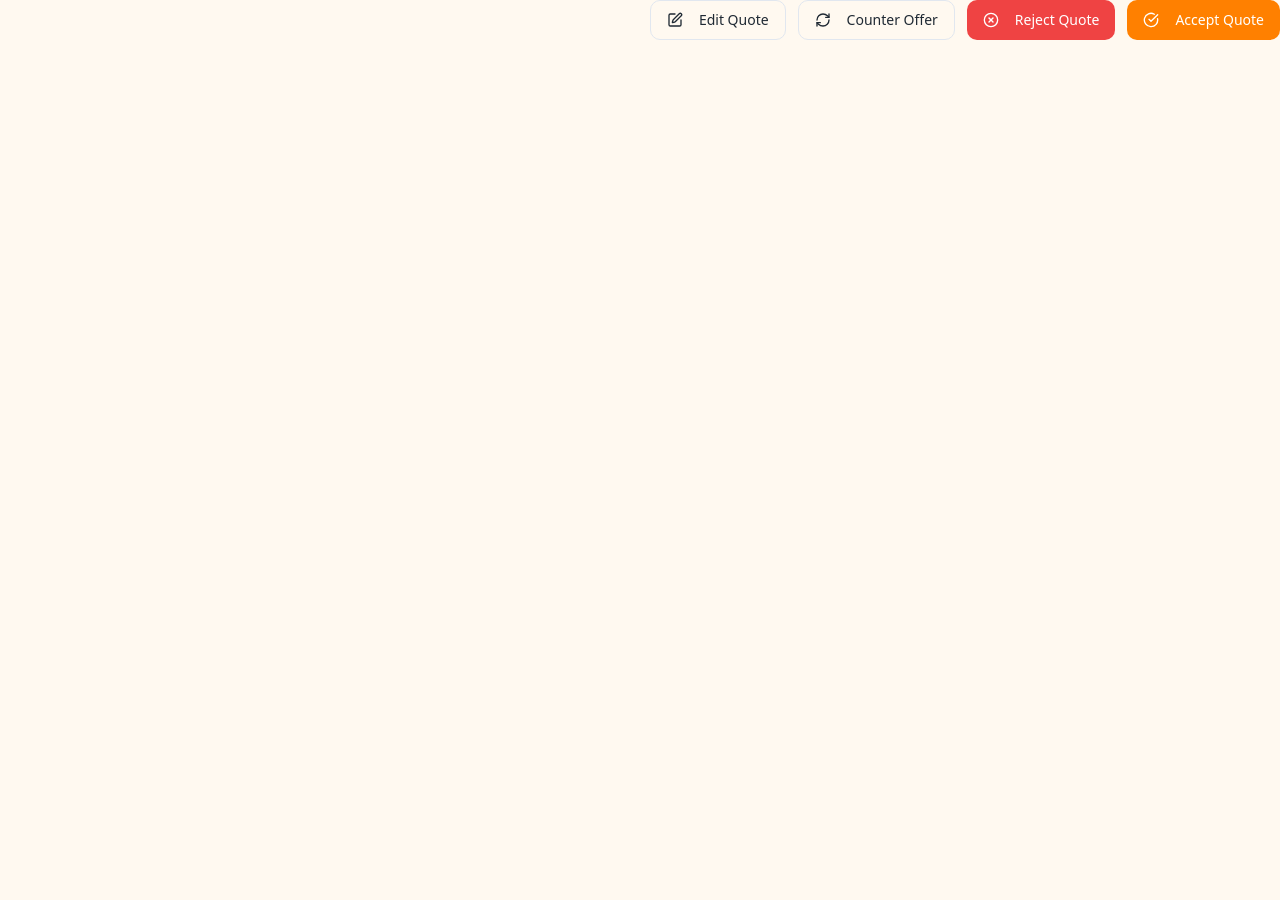
it: QuoteActions › Reject Quote Flow › should show character count for rejection reason
Click the button "Reject Quote" at (1041, 20), box left=967, top=0, right=1115, bottom=40
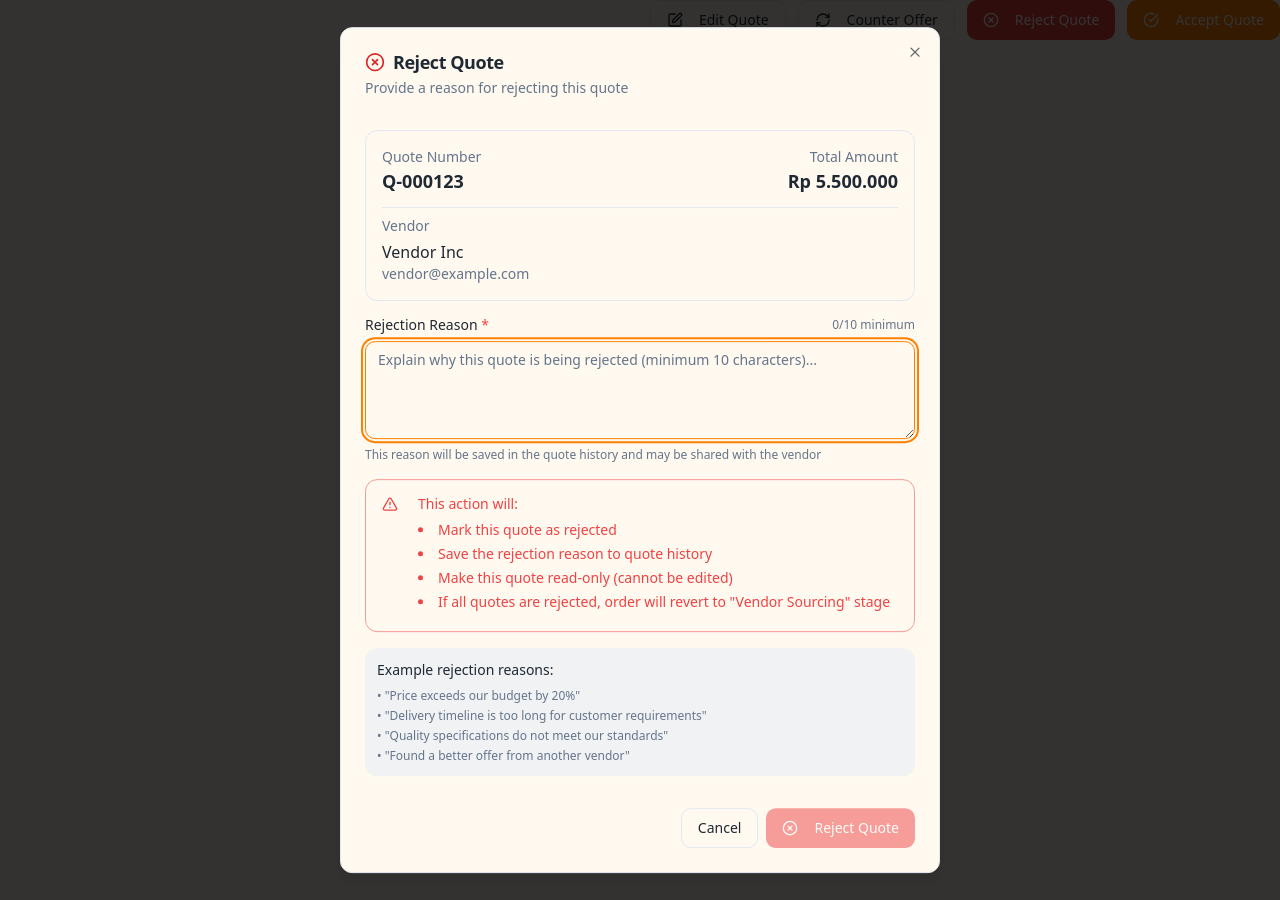
Replace the text in the text box with placeholder "Explain why this quote is being rejected" with "Test reason" at (640, 390), box left=365, top=341, right=915, bottom=439
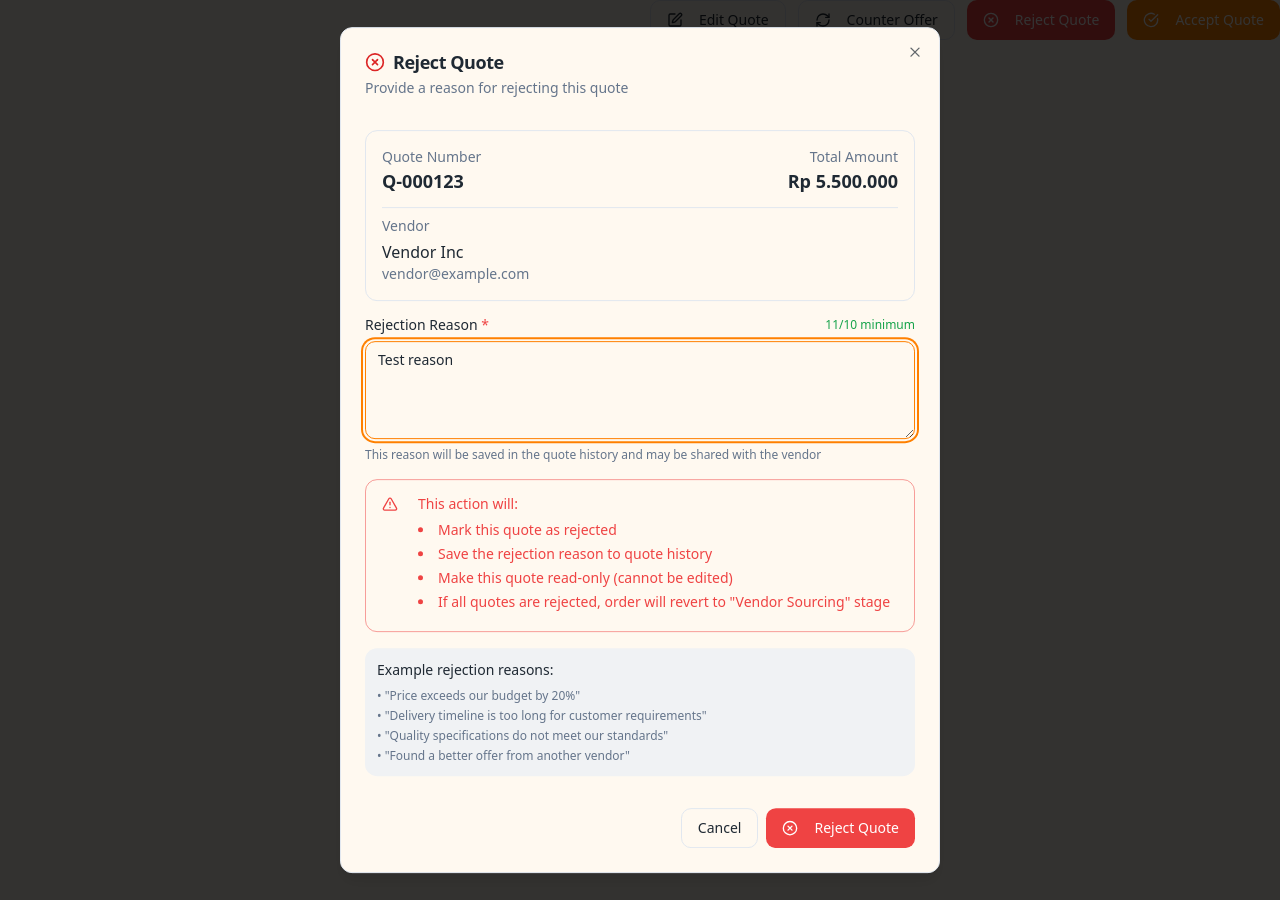
Expected: the text "11/10 minimum" is shown, left=825, top=317, right=915, bottom=333
